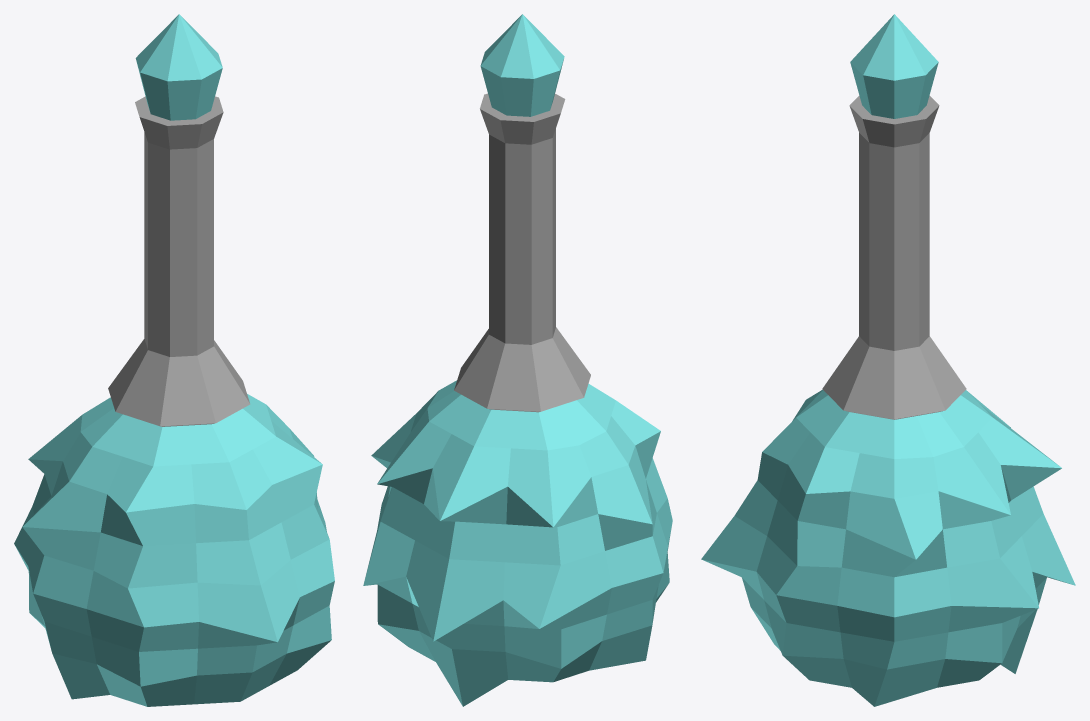
The model's file is Crypt_Potion3.glb.
3 renders of one model, left to right at view 1: azimuth 30°, elevation 25°; view 2: azimuth 150°, elevation 25°; view 3: azimuth 270°, elevation 25°, orthographic. The views are drawn at different scales.
Parts seen in each view (by area): view 1: Potion3; view 2: Potion3; view 3: Potion3.
Boxes of the visible parts, x1,y1,x2,y2 form: Potion3: (14, 14, 334, 706); Potion3: (363, 14, 672, 706); Potion3: (701, 14, 1075, 706).
Bounding box in the file's own units: 0.4915 × 1.08 × 0.5569.
